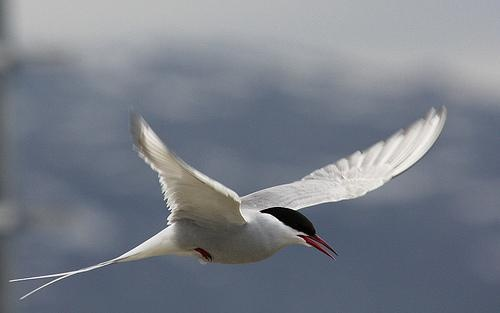bird: (13, 103, 453, 304)
